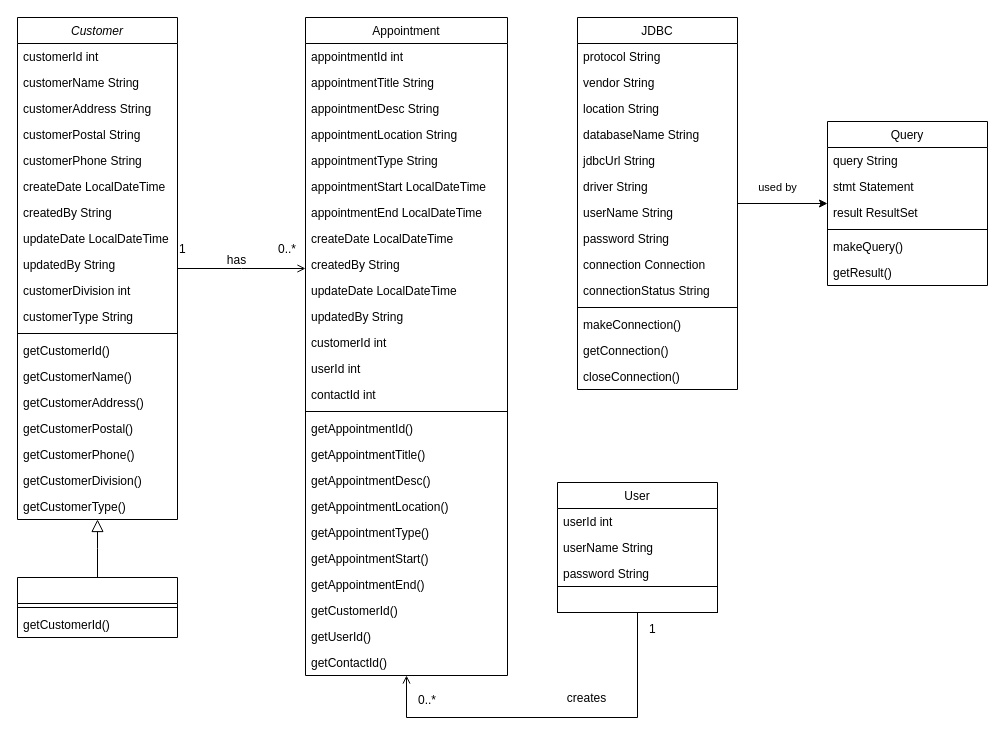
This 1005x743 diagram has some shape labels left out. Here are the shapes that lost their labels. From the top down, the box of each, then its label:
(16, 576, 178, 638): Company
(556, 586, 718, 612): getPassword()
